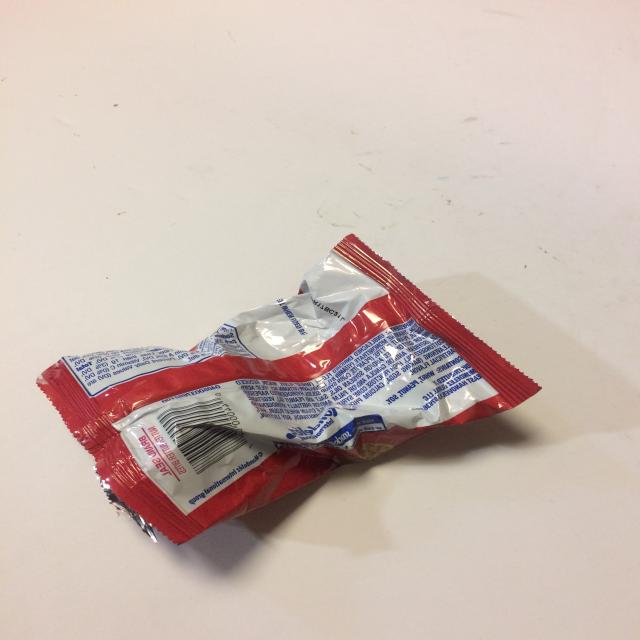trash: (35, 233, 543, 546)
